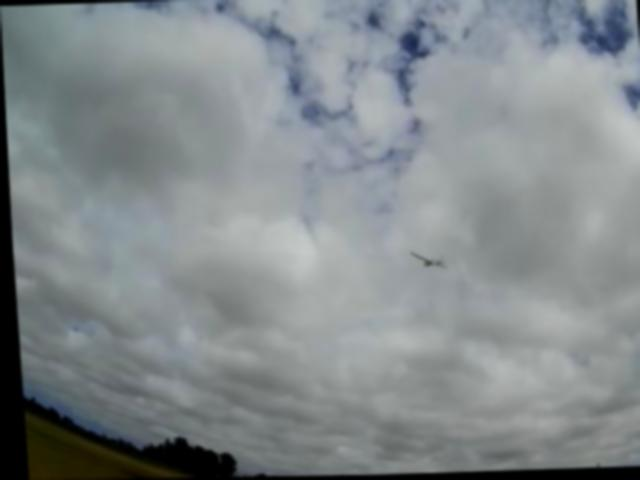uav: (400, 242, 451, 280)
